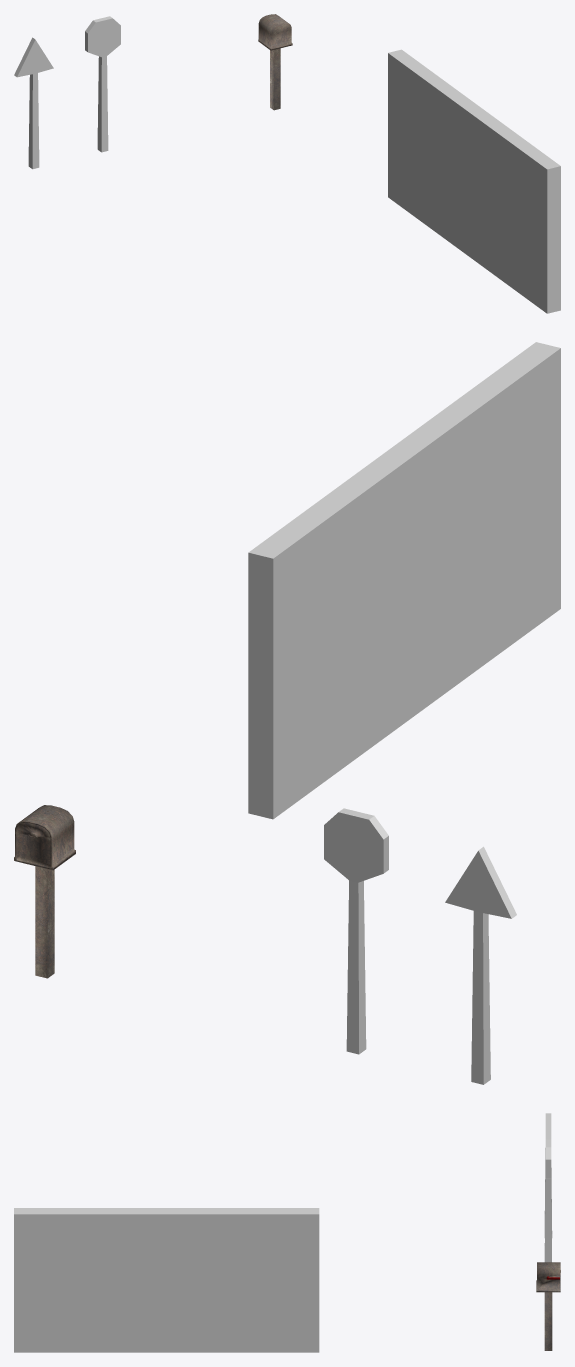
The model's file is environment.glb.
The picture shows the model from 3 angles, top to bottom: view 1: azimuth 30°, elevation 25°; view 2: azimuth 150°, elevation 25°; view 3: azimuth 270°, elevation 25°; orthographic projection. The views are drawn at different scales.
Visible parts, largest first — view 1: fence, stop_sign, yield_sign, mailbox; view 2: fence, stop_sign, yield_sign, mailbox; view 3: fence, mailbox, stop_sign, yield_sign.
Boxes of the visible parts, x1,y1,x2,y2 form: fence: (388,49,560,313); stop_sign: (85,16,120,152); yield_sign: (14,37,53,169); mailbox: (258,14,292,110); fence: (248,342,560,819); stop_sign: (324,808,388,1054); yield_sign: (445,846,516,1084); mailbox: (14,805,75,978); fence: (14,1208,319,1352); mailbox: (536,1262,560,1350); stop_sign: (544,1139,551,1262); yield_sign: (544,1113,552,1237).
Size of what is drawn, in the model's own units: 7.85 by 4 by 14.33.
1 material, 1 textured.
